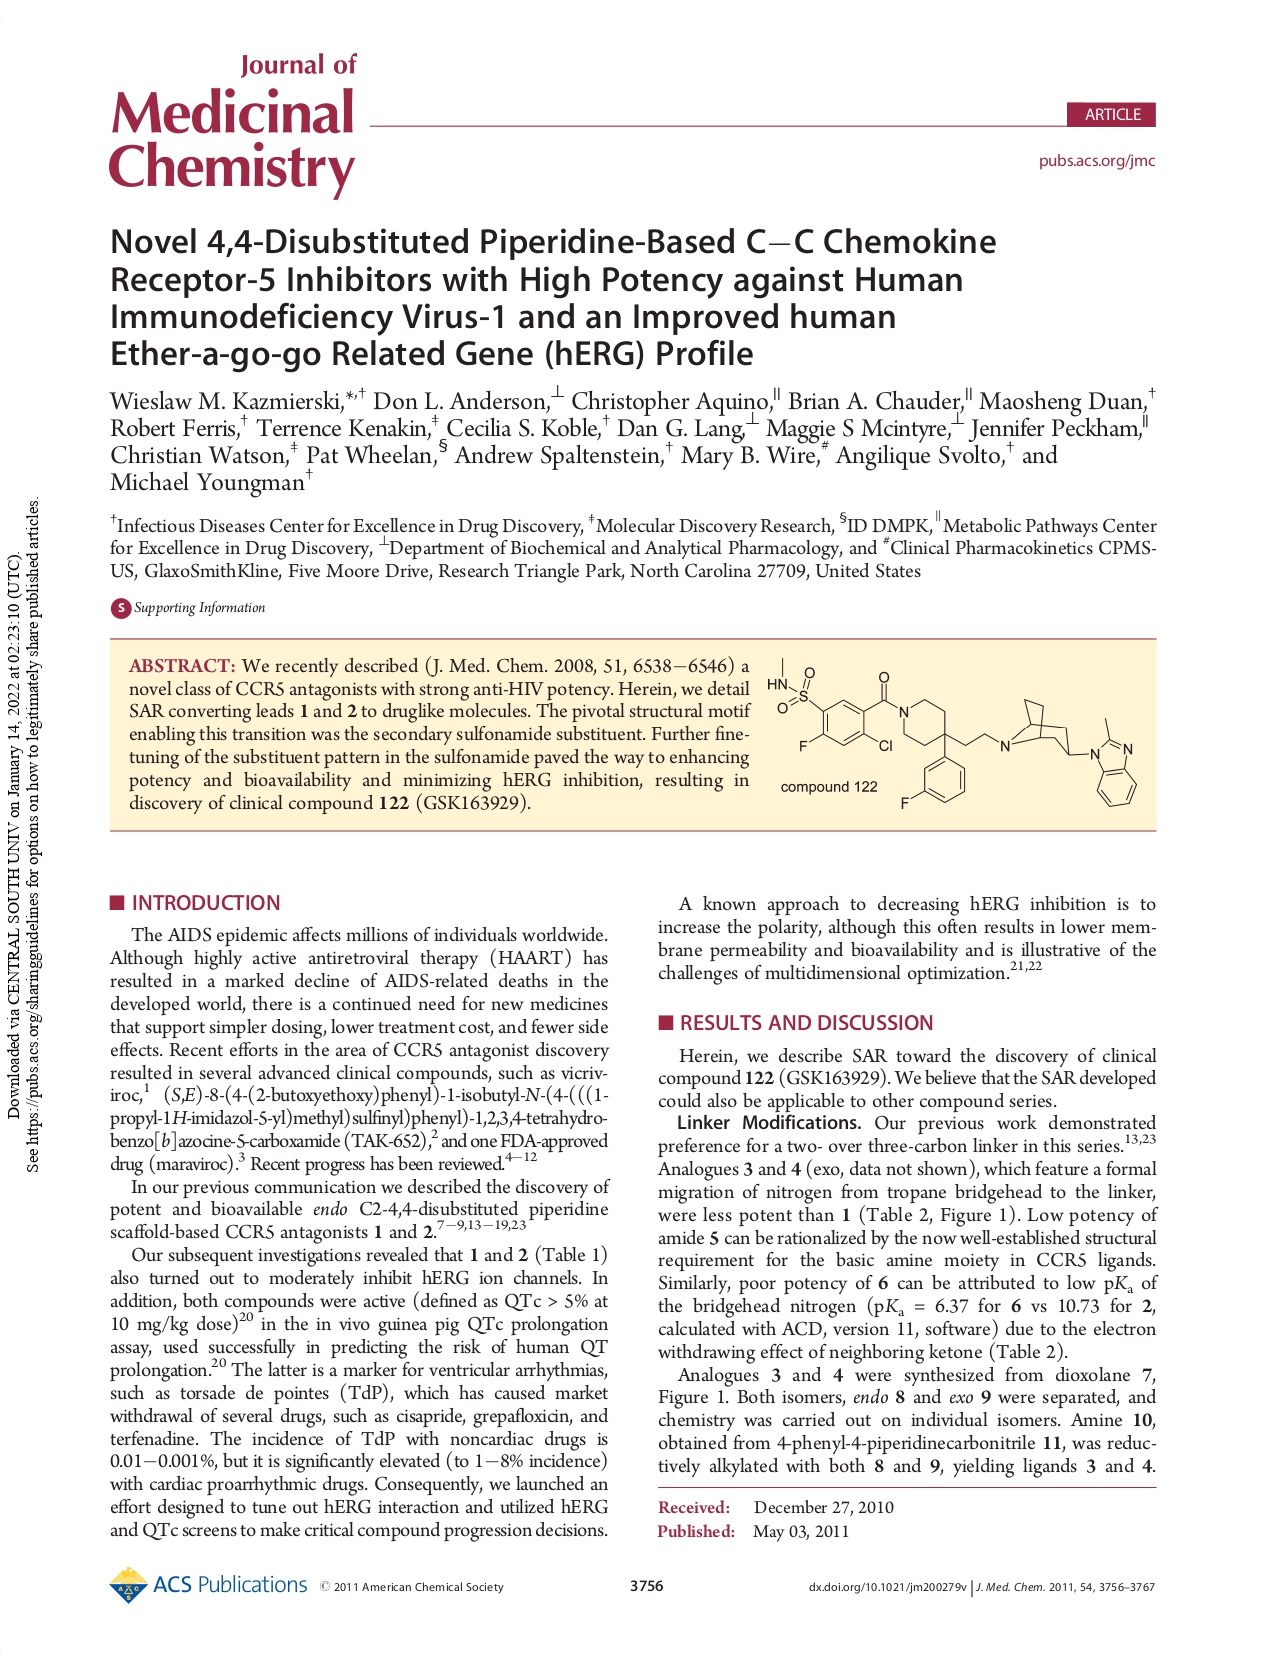exist_molecular: (763, 653, 1138, 815)
